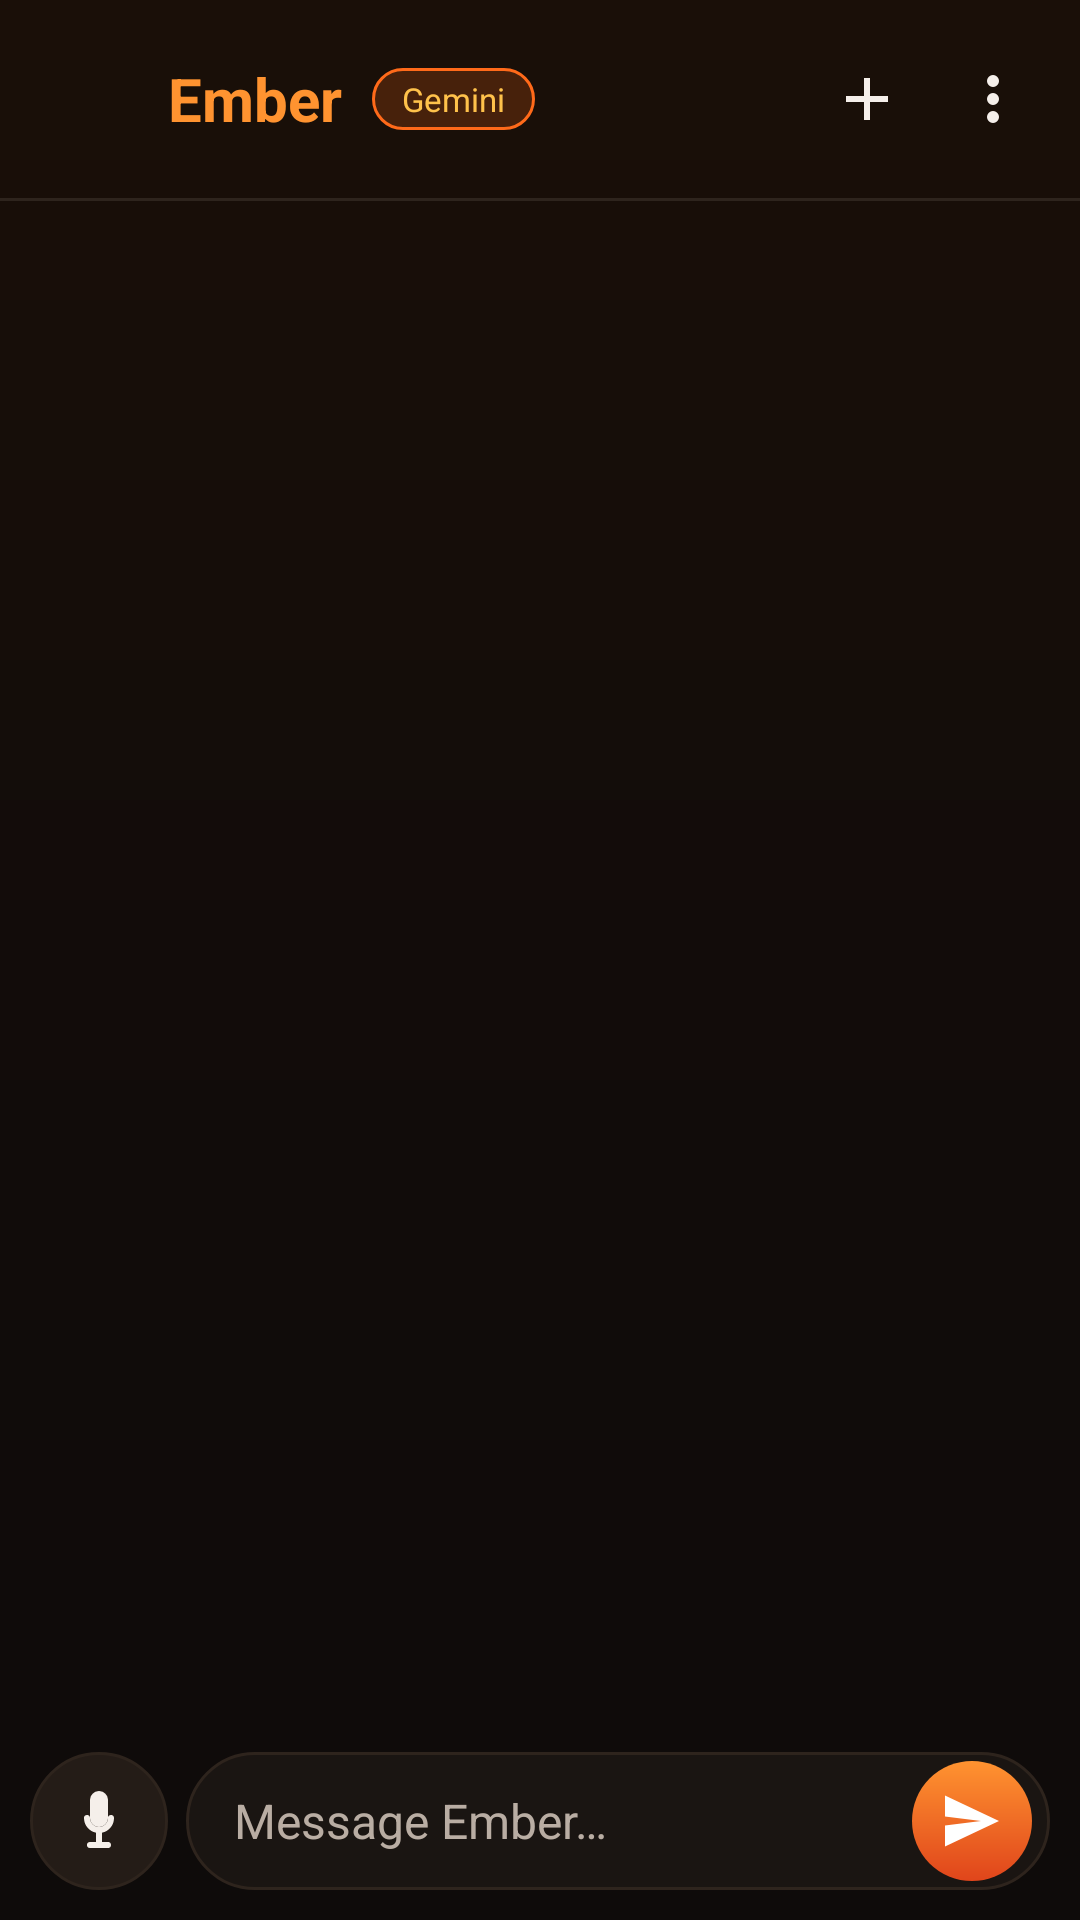

Named icons in this screenshot (1080w x 1920h) and their centers, (x,y):
New chat: (867,99)
Send: (972,1821)
Voice input: (99,1821)
